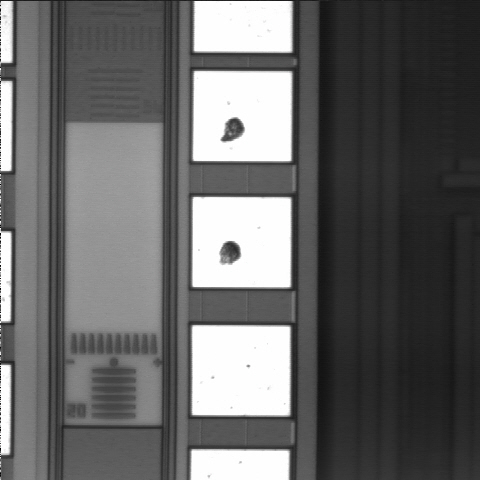pad: (193, 71, 292, 161), (192, 197, 291, 287), (192, 325, 290, 415)
